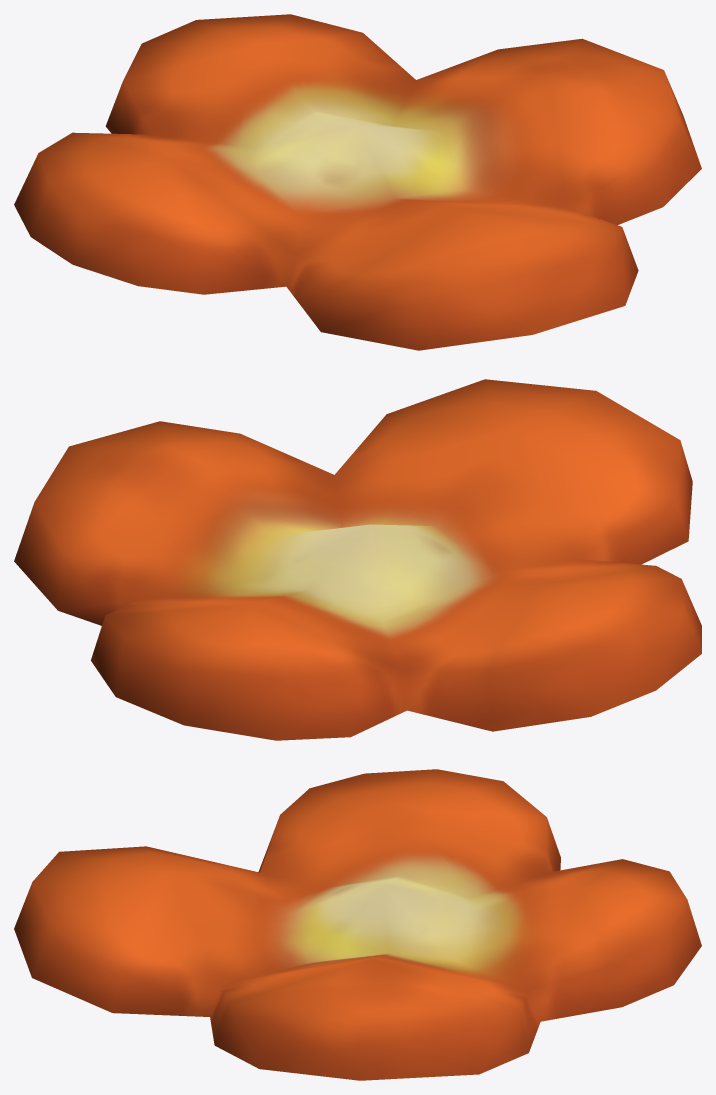
File: S_FlowerMini_red.fbx
3 renders of one model, top to bottom at view 1: azimuth 30°, elevation 25°; view 2: azimuth 150°, elevation 25°; view 3: azimuth 270°, elevation 25°, orthographic. The views are drawn at different scales.
Visible parts, largest first — view 1: S_FlowerMini_red; view 2: S_FlowerMini_red; view 3: S_FlowerMini_red.
Boxes of the visible parts, left/top/right/bottom form: S_FlowerMini_red: left=14, top=14, right=701, bottom=350; S_FlowerMini_red: left=14, top=379, right=701, bottom=740; S_FlowerMini_red: left=14, top=769, right=701, bottom=1080.
Bounding box in the file's own units: 38.7 × 5.29 × 40.58.
